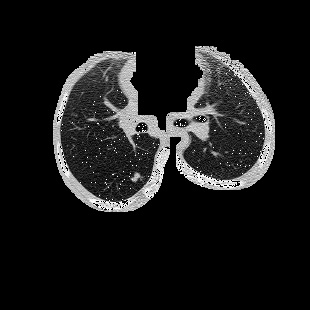PN: (132, 174, 140, 182)
